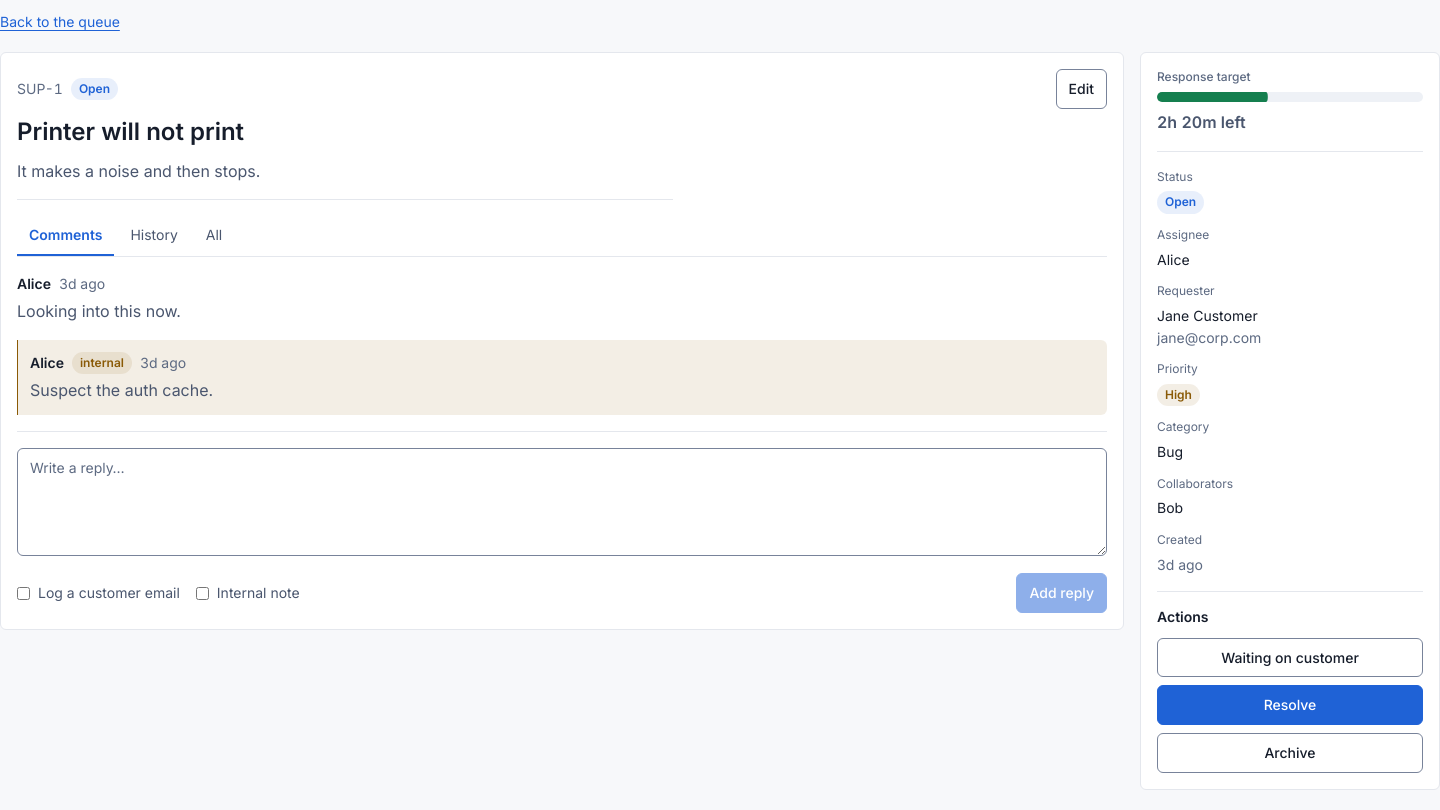
Test case: TicketDetailPage › editing the ticket › opens an editor prefilled with the ticket as it stands
The image size is (1440, 810).
Click the button "Edit": click(1081, 89) [1056,69,1107,109]
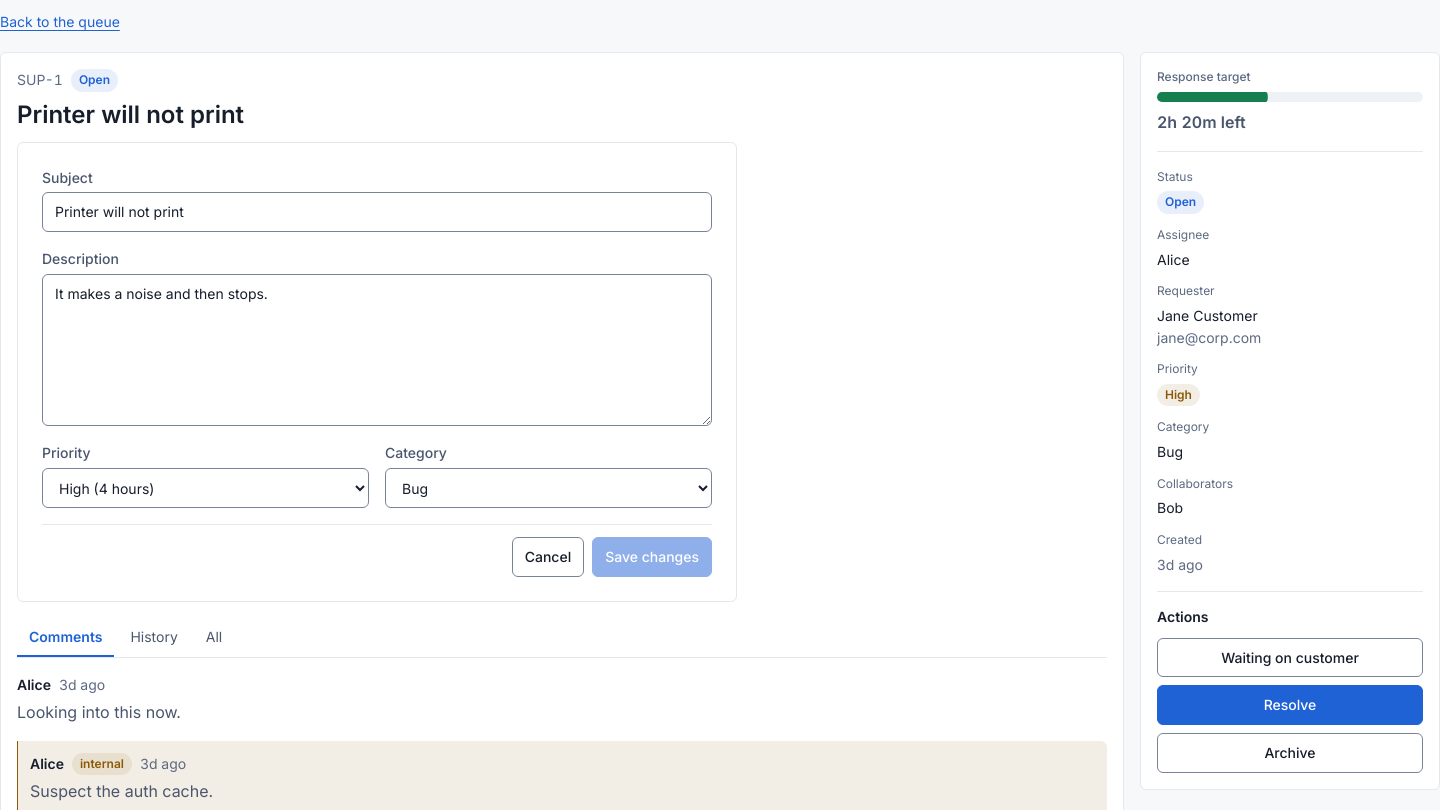
Result: the field labelled "Subject" holds "Printer will not print" at [42,192,712,232]
Result: the text box labelled "Description" holds "It makes a noise and then stops." at [42,274,712,426]
Result: the dropdown labelled "Priority" shows "High (4 hours)" at [42,468,369,508]
